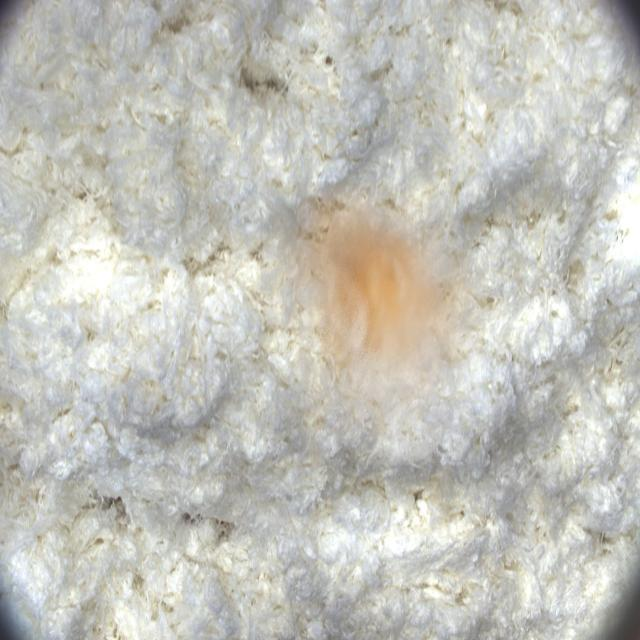dust: (260, 181, 485, 465)
